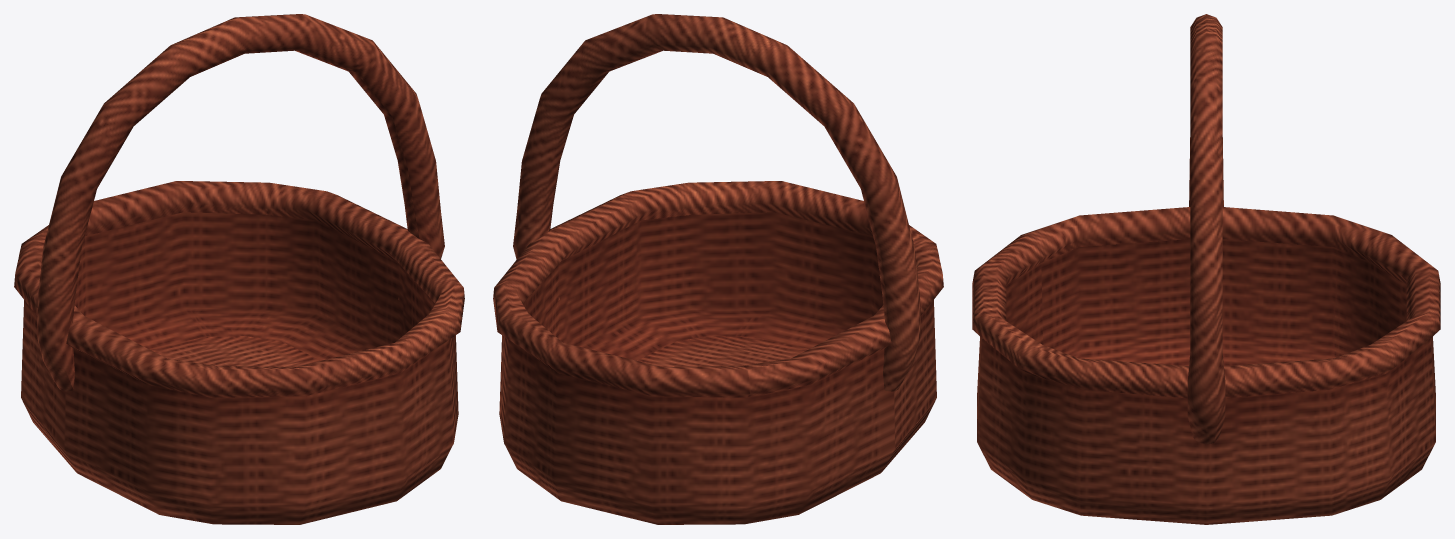
Rendered from Basket.fbx.
The picture shows the model from 3 angles, left to right: view 1: azimuth 30°, elevation 25°; view 2: azimuth 150°, elevation 25°; view 3: azimuth 270°, elevation 25°; orthographic projection.
Parts seen in each view (by area): view 1: Basket; view 2: Basket; view 3: Basket.
Part boxes in pixels (x1=…): Basket: x1=14, y1=14, x2=464, y2=524; Basket: x1=493, y1=14, x2=943, y2=524; Basket: x1=972, y1=14, x2=1440, y2=524.
Size of the model in its own units: 103 by 104 by 104.
